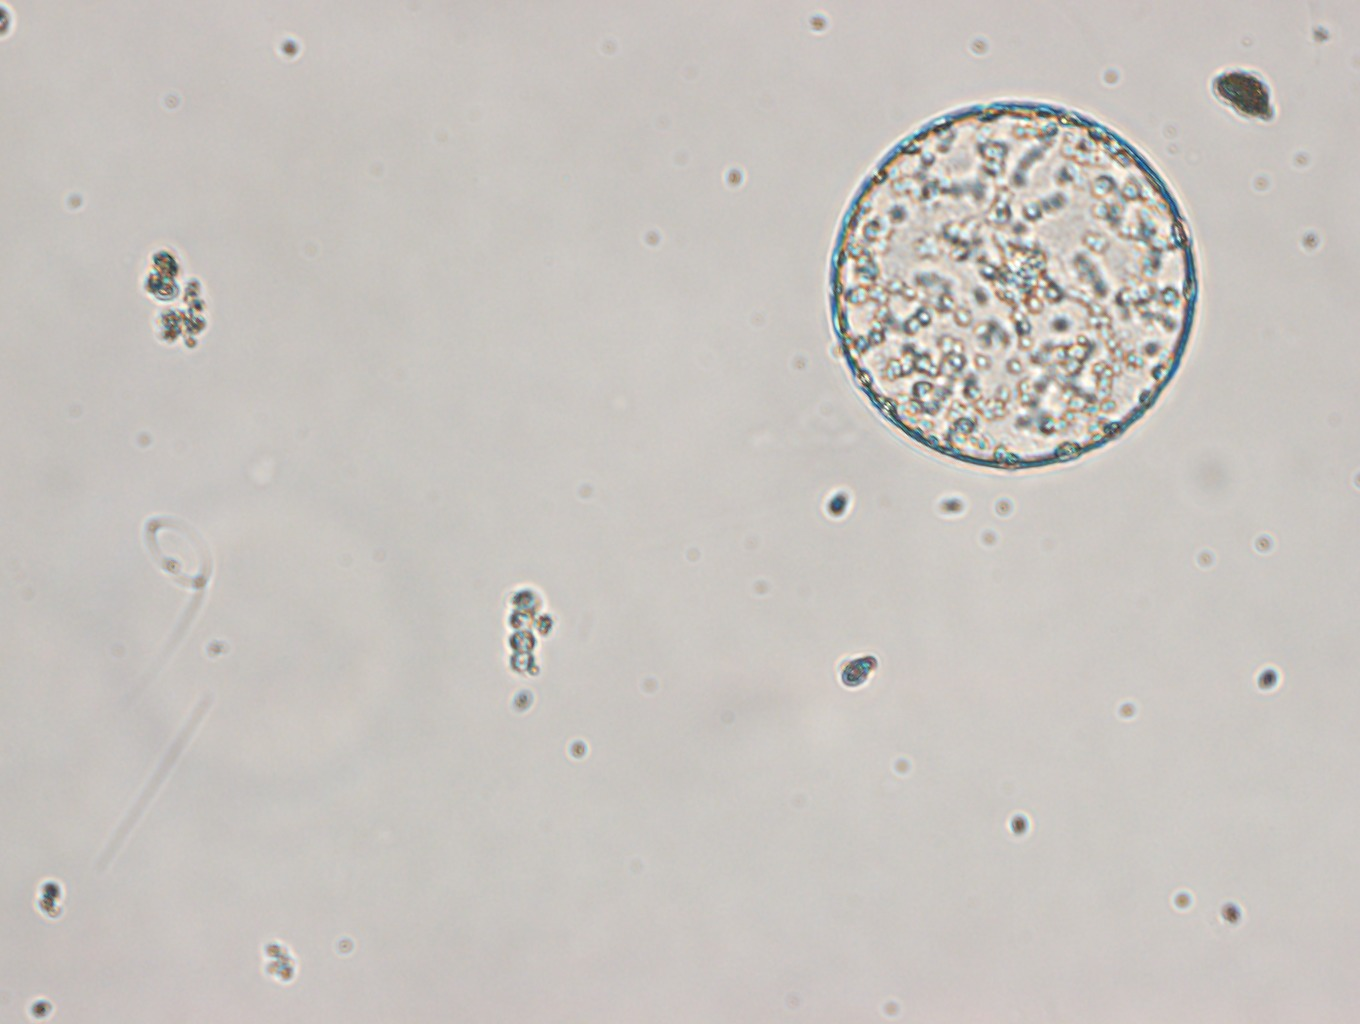coscinodiscus: (824, 98, 1197, 474)
